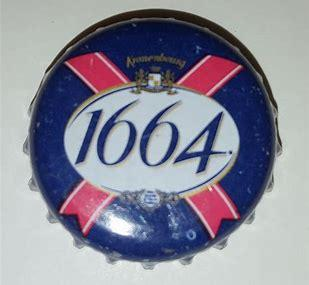metal: (29, 9, 282, 268)
